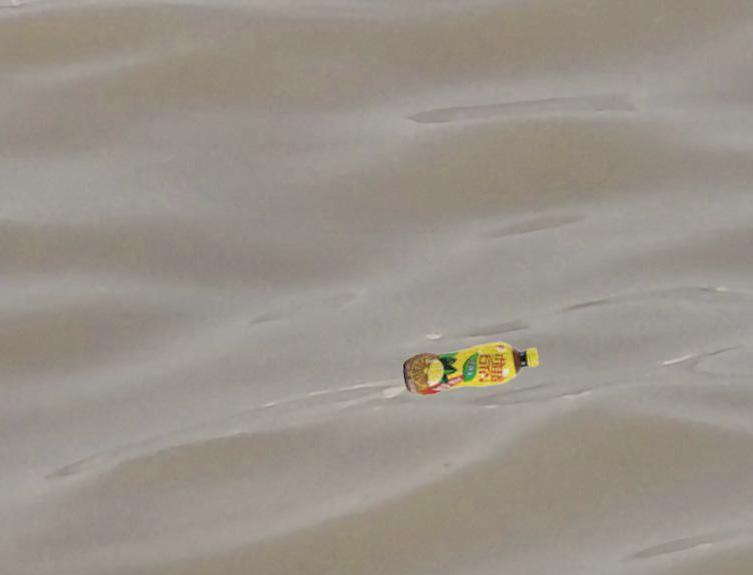Plastic: (402, 340, 543, 396)
